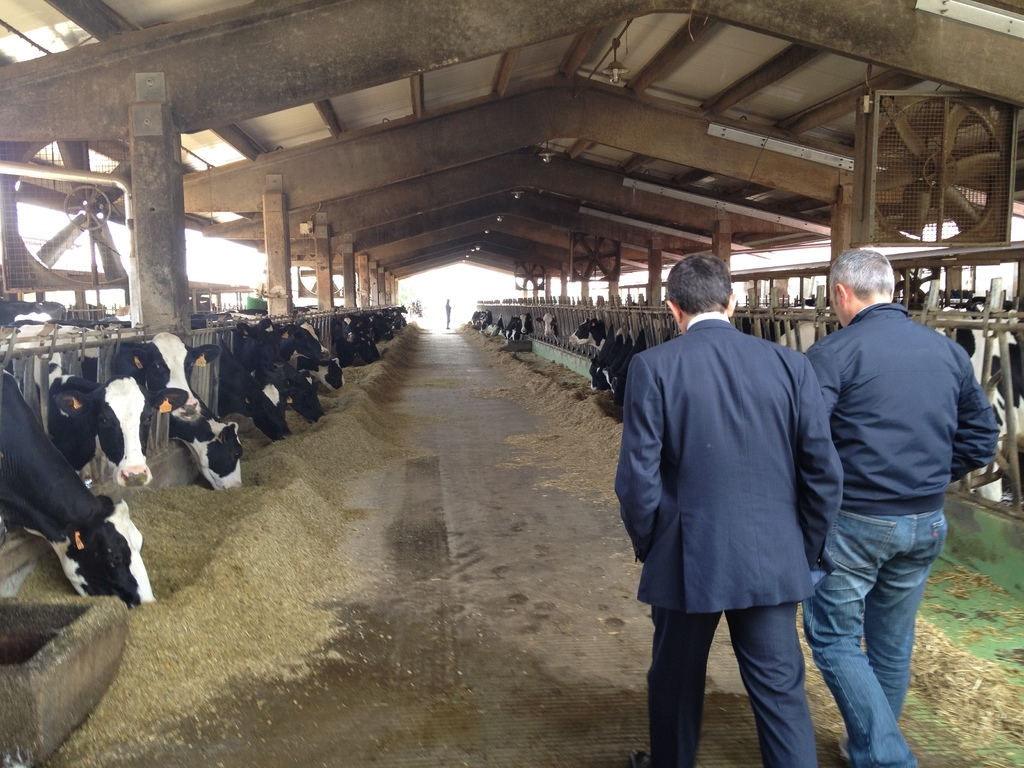Person: (444, 299, 452, 327)
